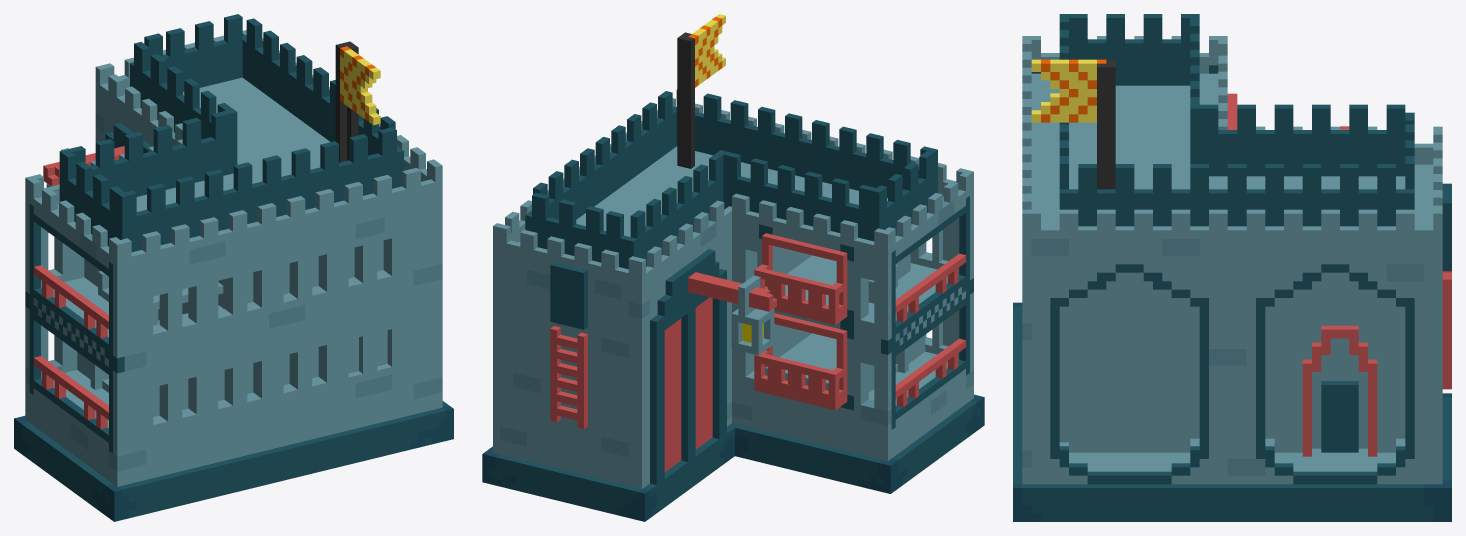
The model's file is castle.obj.
3 views of the same model, side by side, from view 1: azimuth 30°, elevation 25°; view 2: azimuth 150°, elevation 25°; view 3: azimuth 270°, elevation 25° (orthographic). The views are drawn at different scales.
Size of the model in its own units: 4.7 by 5 by 4.7.
1 material, 1 textured.
